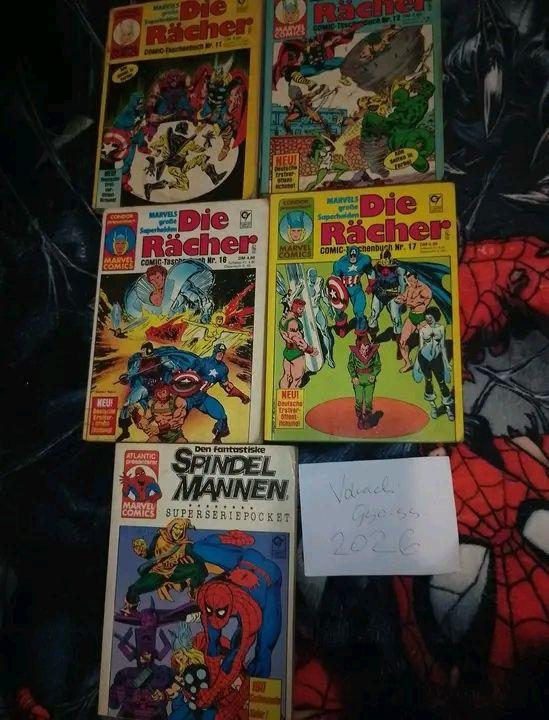comic: (99, 444, 296, 719), (265, 183, 462, 442), (83, 193, 270, 446), (92, 0, 264, 216), (260, 0, 443, 193)
